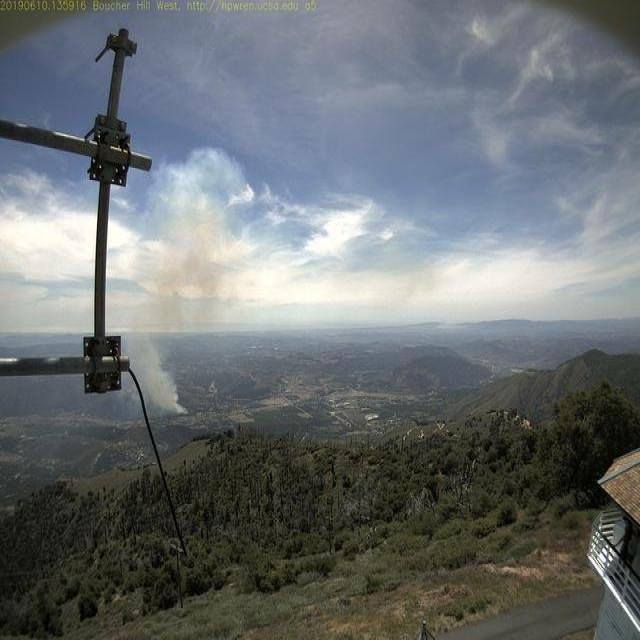smoke: (131, 147, 251, 416)
